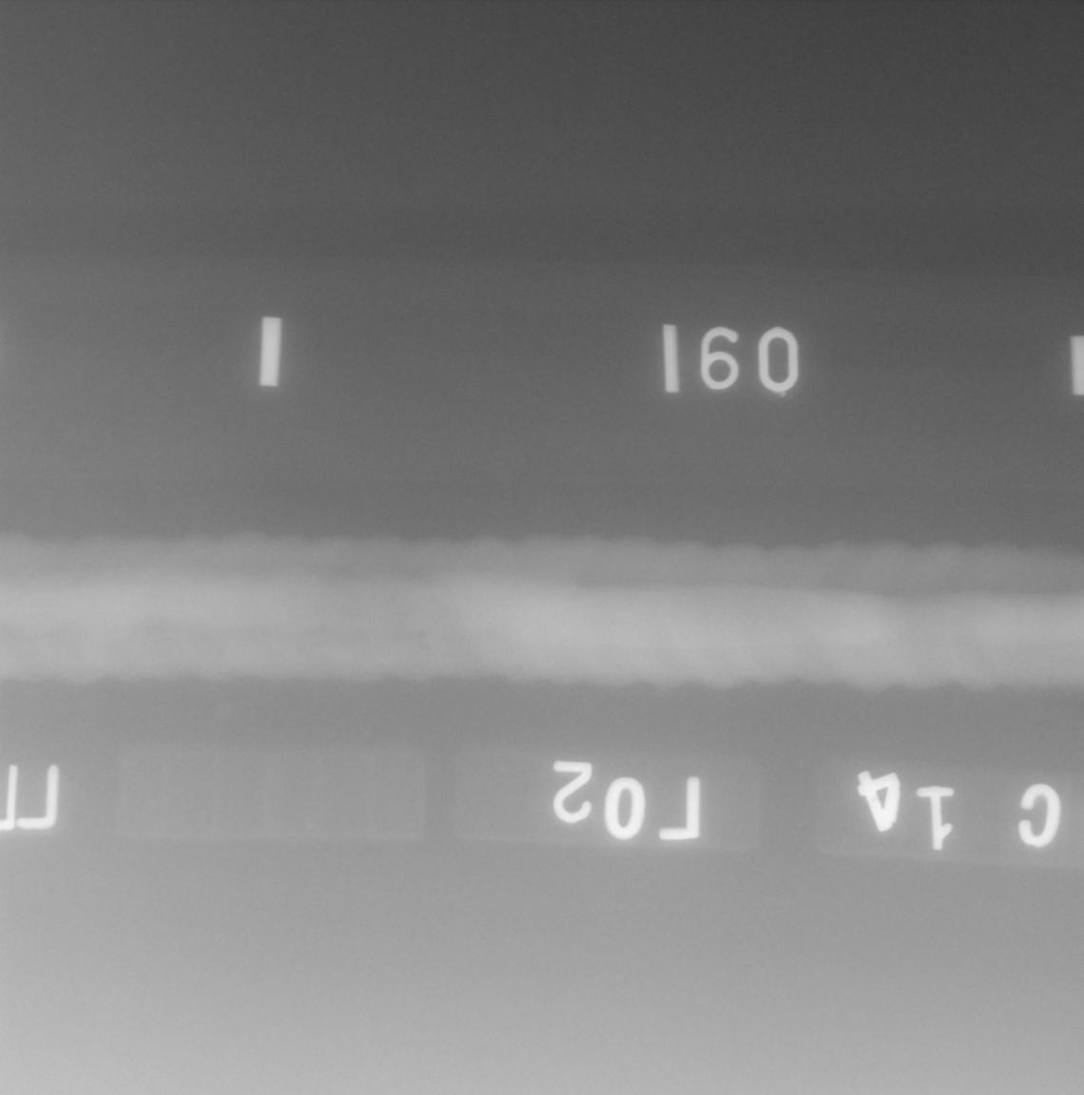Pore/Porosity: (420, 631, 425, 636), (611, 620, 615, 624), (432, 598, 434, 602)
